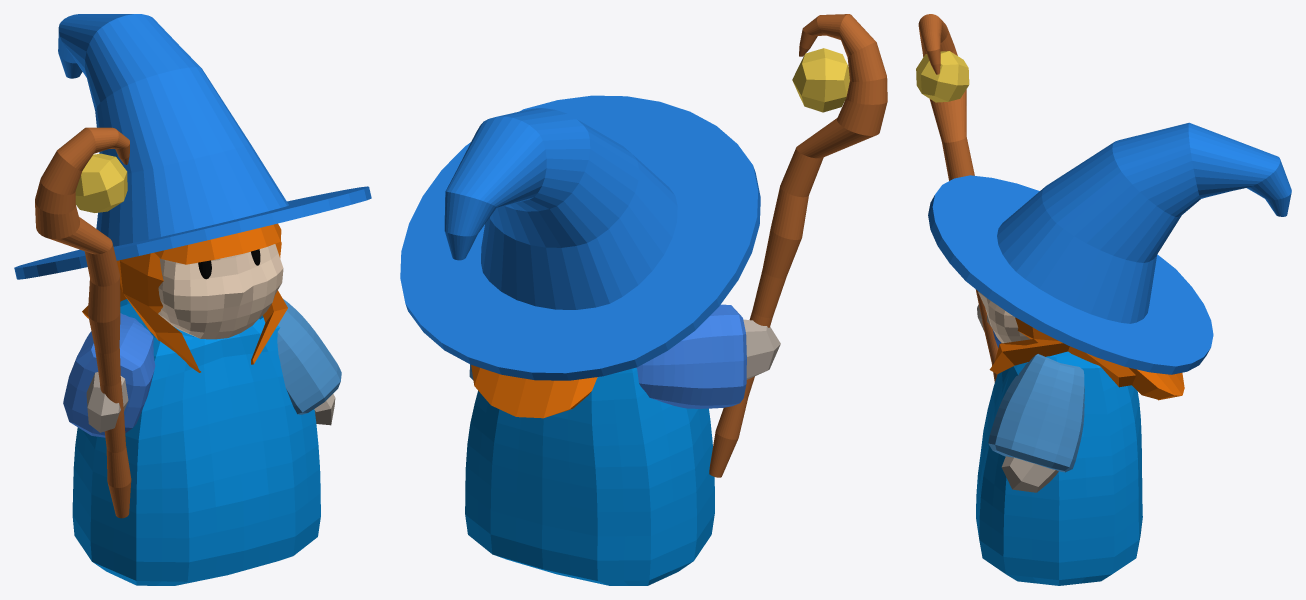
File: Witch.fbx
3 views of the same model, side by side, from view 1: azimuth 30°, elevation 25°; view 2: azimuth 150°, elevation 25°; view 3: azimuth 270°, elevation 25° (orthographic). The views are drawn at different scales.
Visible parts, largest first — view 1: Body, Hat, Cylinder, Head, Hair, sleeve1, Sleeve2, Cube, Hand1; view 2: Hat, Body, Cylinder, sleeve1, Hair, Cube, Hand1; view 3: Hat, Body, Sleeve2, Cylinder, Hair, Cube, Hand2, Head.
Boxes of the visible parts, x1=… form: Body: x1=72, y1=299, x2=320, y2=585; Hat: x1=14, y1=14, x2=371, y2=279; Cylinder: x1=35, y1=127, x2=131, y2=518; Head: x1=158, y1=244, x2=283, y2=339; Hair: x1=82, y1=223, x2=287, y2=372; sleeve1: x1=63, y1=313, x2=155, y2=437; Sleeve2: x1=277, y1=299, x2=341, y2=414; Cube: x1=75, y1=153, x2=127, y2=212; Hand1: x1=86, y1=372, x2=128, y2=432; Hat: x1=400, y1=95, x2=760, y2=380; Body: x1=465, y1=367, x2=714, y2=585; Cylinder: x1=709, y1=14, x2=887, y2=477; sleeve1: x1=636, y1=304, x2=746, y2=408; Hair: x1=471, y1=365, x2=597, y2=418; Cube: x1=792, y1=48, x2=849, y2=112; Hand1: x1=743, y1=319, x2=780, y2=379; Hat: x1=928, y1=122, x2=1291, y2=374; Body: x1=976, y1=351, x2=1142, y2=585; Sleeve2: x1=988, y1=354, x2=1084, y2=472; Cylinder: x1=918, y1=14, x2=998, y2=382; Hair: x1=989, y1=317, x2=1184, y2=400; Cube: x1=916, y1=51, x2=969, y2=102; Hand2: x1=1001, y1=456, x2=1058, y2=492; Head: x1=978, y1=291, x2=1030, y2=343.
Size of the model in its own units: 305 by 400 by 295.
